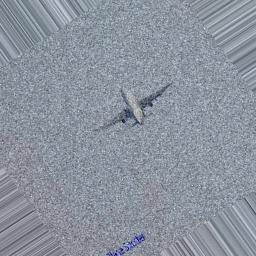Airplane: (94, 80, 174, 132)
